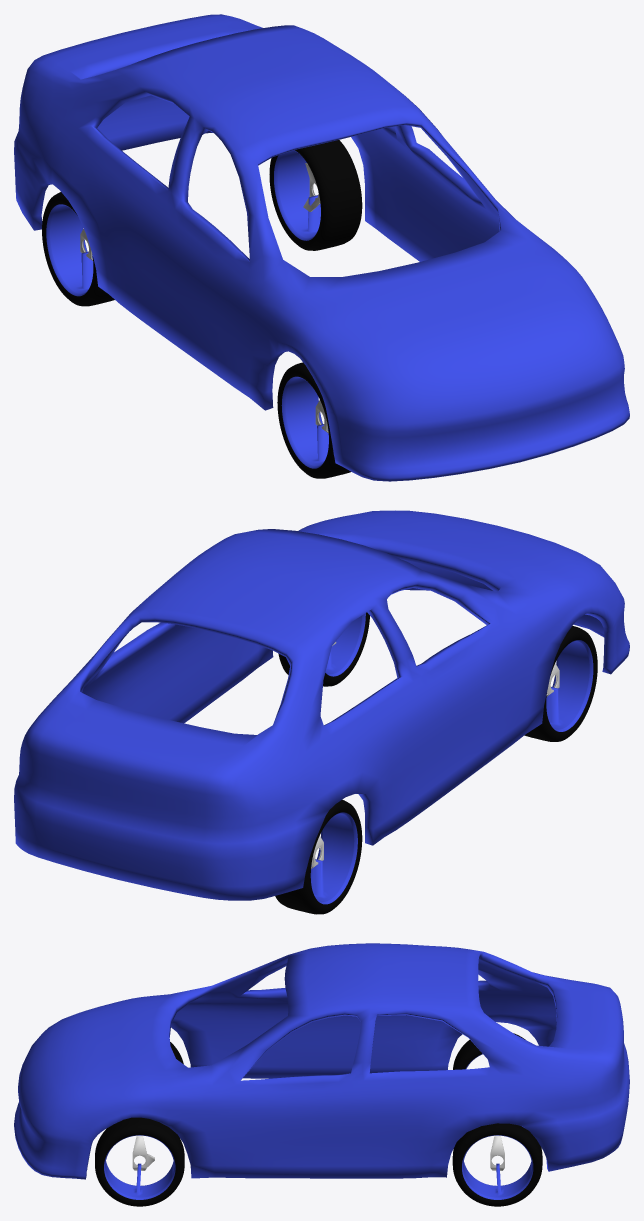
The model's file is VehDynCarTest.fbx.
3 renders of one model, top to bottom at view 1: azimuth 30°, elevation 25°; view 2: azimuth 150°, elevation 25°; view 3: azimuth 270°, elevation 25°, orthographic. The views are drawn at different scales.
Parts seen in each view (by area): view 1: chassis, wheel_RL, wheel_FR, wheel_RR; view 2: chassis, wheel_RR, wheel_FR, wheel_FL; view 3: chassis, wheel_FL, wheel_RL, wheel_RR, spindle_FL.
Boxes of the visible parts, x1,y1,x2,y2 form: chassis: [14, 14, 629, 481]; wheel_RL: [269, 140, 362, 250]; wheel_FR: [277, 362, 350, 478]; wheel_RR: [42, 192, 114, 306]; chassis: [14, 510, 629, 900]; wheel_RR: [275, 799, 362, 914]; wheel_FR: [524, 626, 597, 741]; wheel_FL: [278, 612, 369, 686]; chassis: [14, 943, 629, 1179]; wheel_FL: [95, 1117, 184, 1206]; wheel_RL: [452, 1123, 542, 1206]; wheel_RR: [453, 1033, 525, 1069]; spindle_FL: [132, 1136, 154, 1170].
Size of what is drawn, in the model's own units: 178 by 148 by 432.
